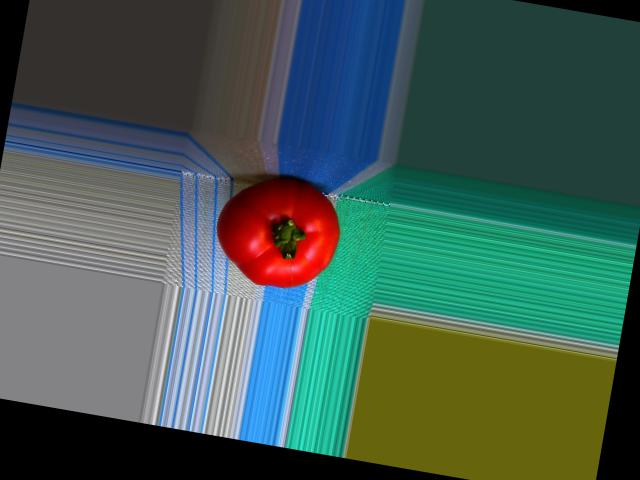tomato: (209, 166, 348, 297)
